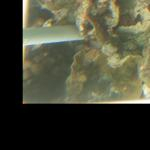alive: (24, 1, 149, 102)
